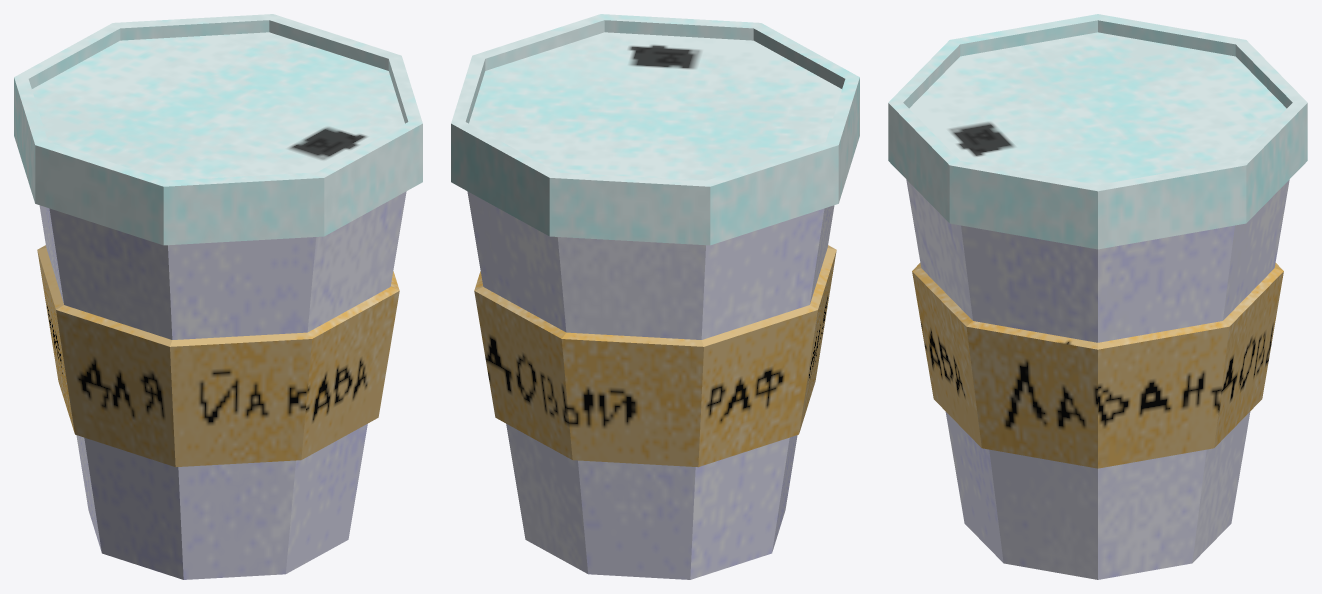
The model's file is coffee.glb.
3 renders of one model, left to right at view 1: azimuth 30°, elevation 25°; view 2: azimuth 150°, elevation 25°; view 3: azimuth 270°, elevation 25°, orthographic.
Parts seen in each view (by area): view 1: Cylinder; view 2: Cylinder; view 3: Cylinder.
Boxes of the visible parts, bbox=[...] form: Cylinder: bbox=[14, 14, 422, 579]; Cylinder: bbox=[451, 14, 859, 579]; Cylinder: bbox=[888, 14, 1307, 579].
Size of the model in its own units: 0.3145 by 0.3481 by 0.3145.
Materials: 1 (1 with a texture image).
